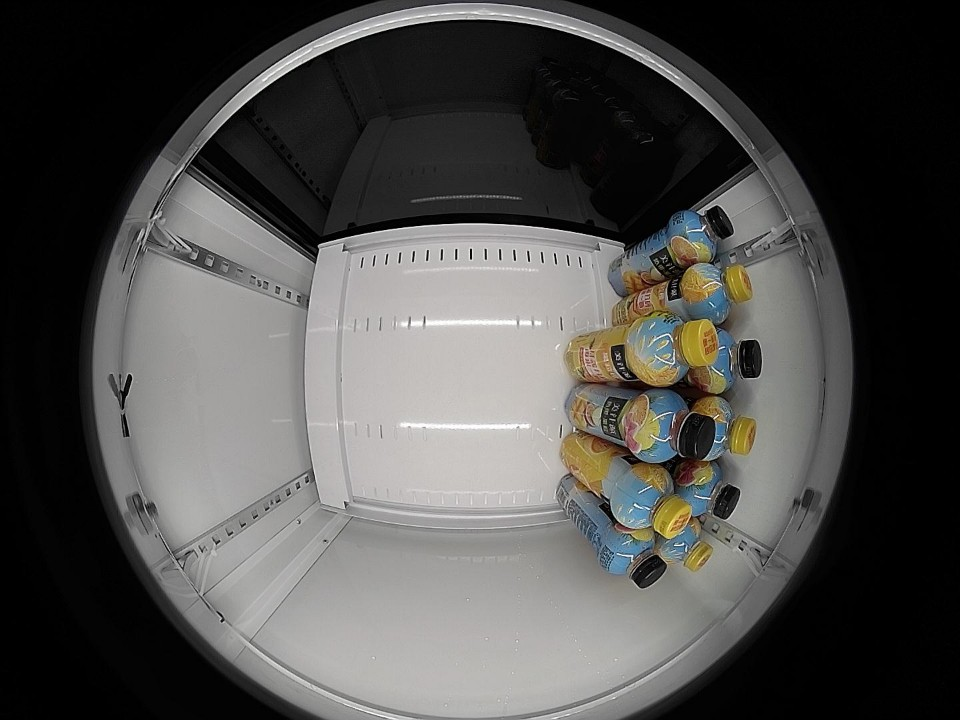guolicheng: (631, 312, 719, 386), (611, 463, 693, 538), (684, 262, 754, 323), (697, 395, 757, 460), (658, 518, 714, 572)
guolicheng2: (624, 389, 719, 463), (695, 326, 763, 394), (600, 526, 667, 589), (669, 205, 735, 265), (678, 461, 741, 521)
